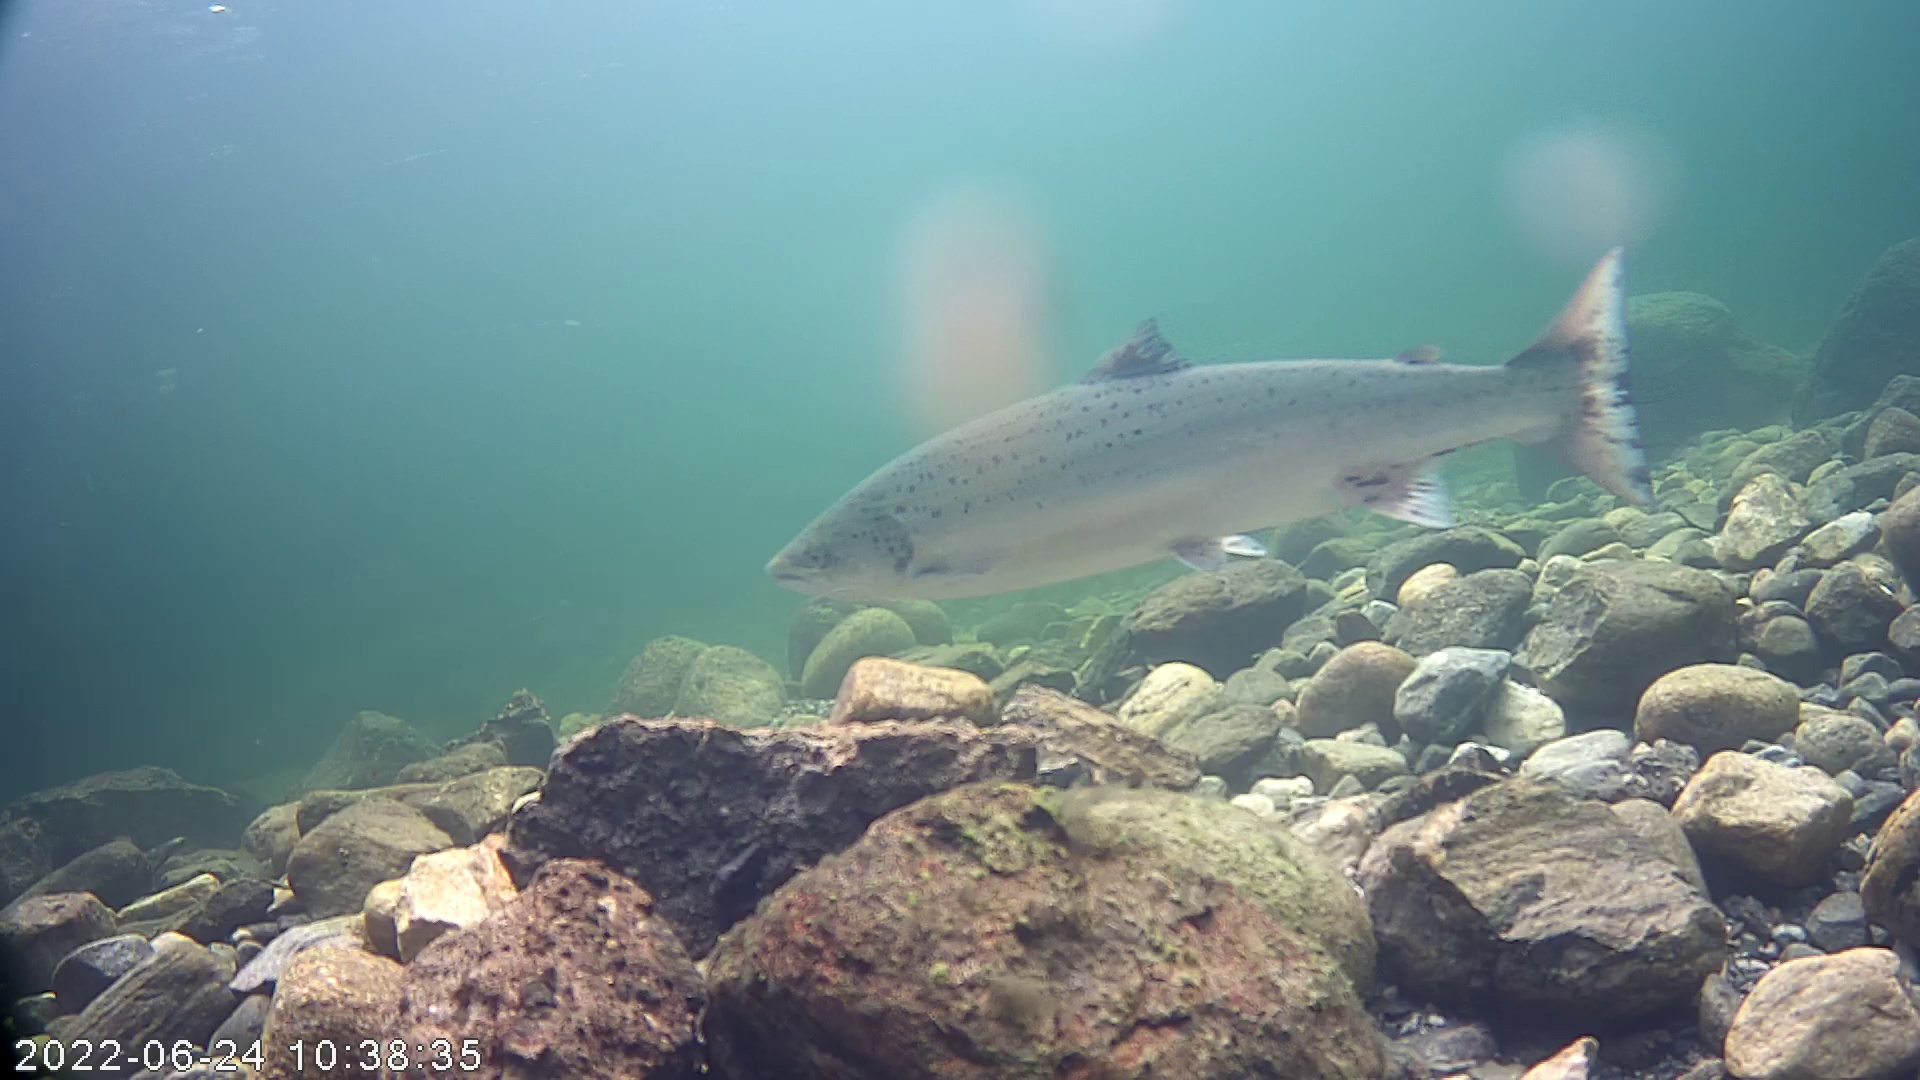salmon: (762, 243, 1664, 604)
